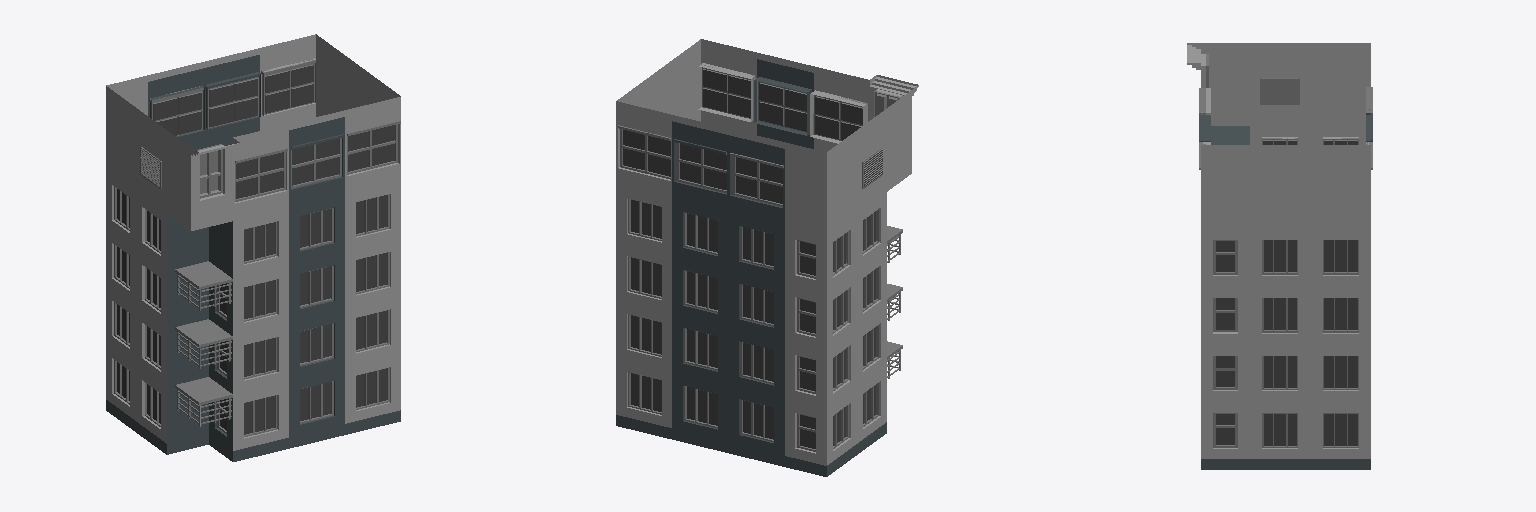
3 views of the same model, side by side, from view 1: azimuth 30°, elevation 25°; view 2: azimuth 150°, elevation 25°; view 3: azimuth 270°, elevation 25° (orthographic).
Visible parts, largest first — view 1: Building_5; view 2: Building_5; view 3: Building_5.
Boxes of the visible parts, x1=… form: Building_5: x1=106, y1=34, x2=400, y2=461; Building_5: x1=616, y1=39, x2=918, y2=476; Building_5: x1=1187, y1=43, x2=1372, y2=469.
Bounding box in the file's own units: 50.4 × 73.78 × 38.4.
Materials: 1 (1 with a texture image).